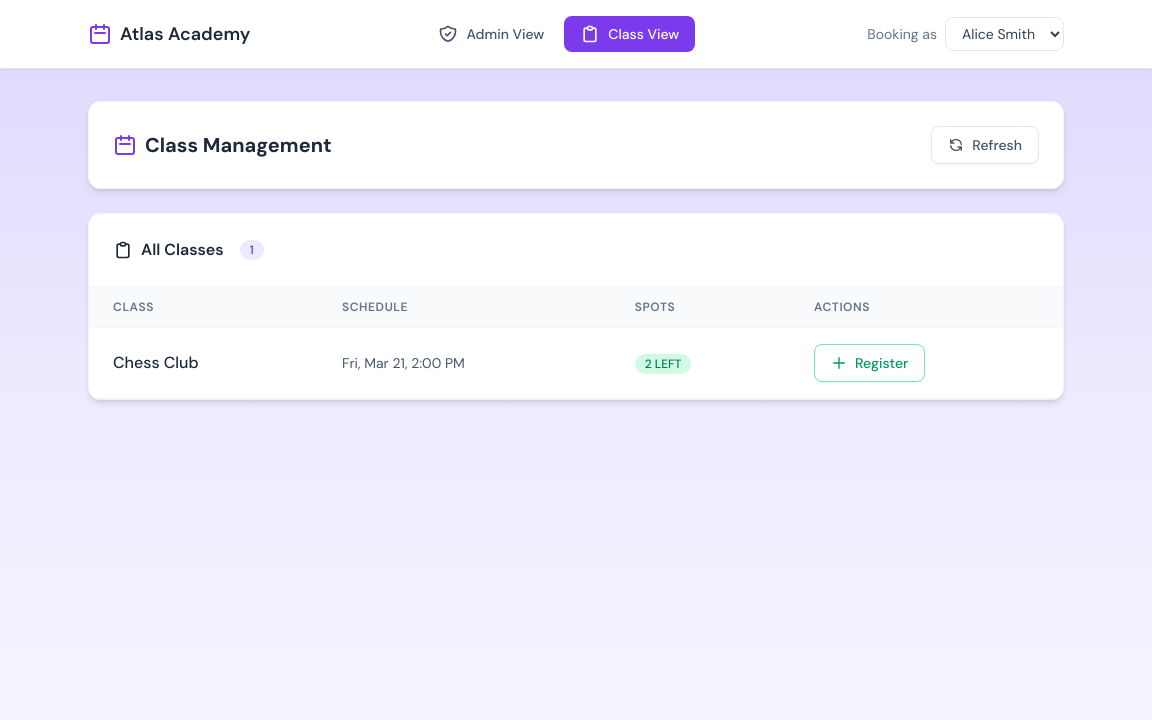
Test: Home page › refreshes both classes and registrations after registering
Click the button "Register". click: point(870, 363)
box: left=814, top=344, right=925, bottom=382
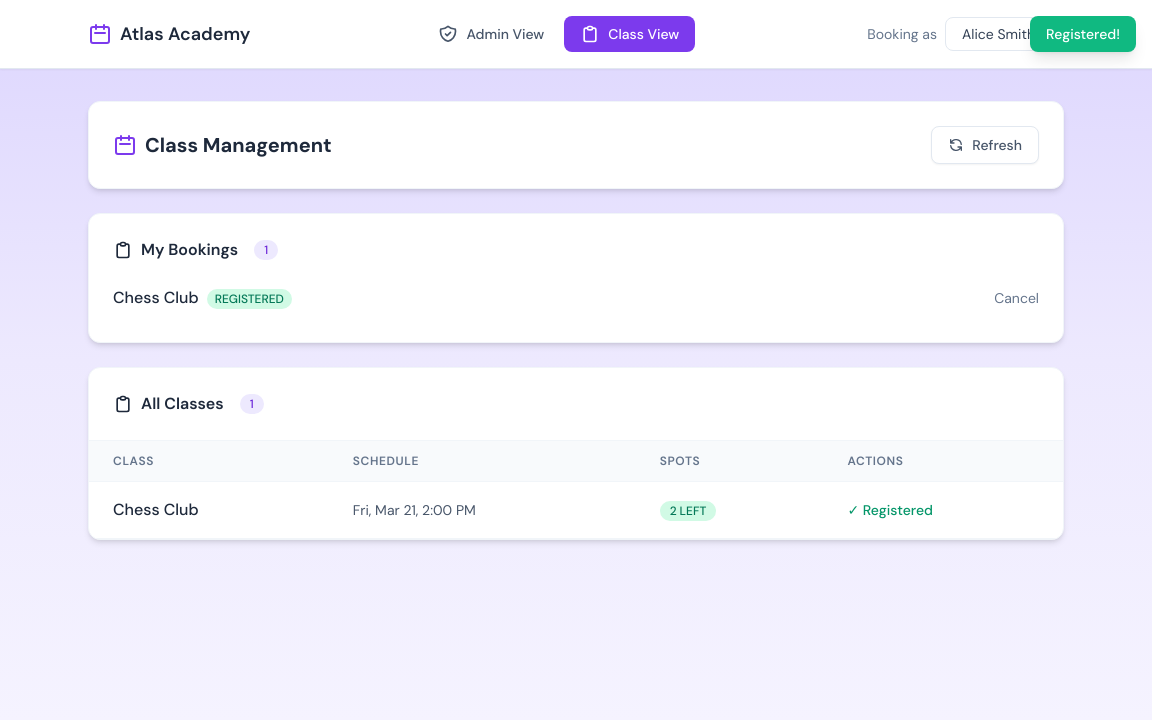
expect the text "Registered!" is shown: met, box left=1030, top=16, right=1136, bottom=52
expect the heading "My Bookings 1" is shown: met, box left=113, top=239, right=278, bottom=260
